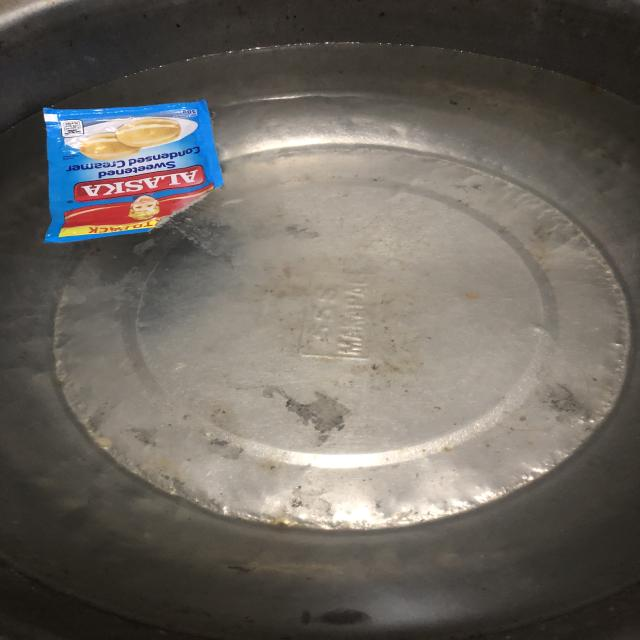Plastic Wrapper: (44, 100, 223, 243)
